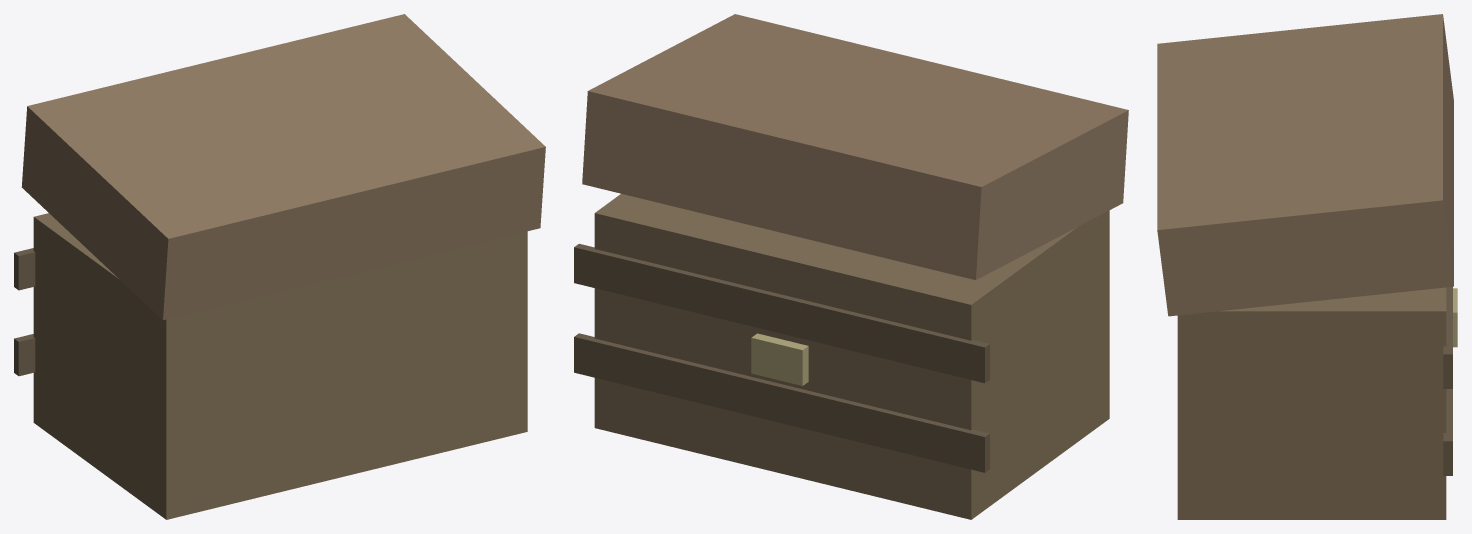
The model's file is treasure_chest_v1.glb.
The picture shows the model from 3 angles, left to right: view 1: azimuth 30°, elevation 25°; view 2: azimuth 150°, elevation 25°; view 3: azimuth 270°, elevation 25°; orthographic projection. The views are drawn at different scales.
Visible parts, largest first — view 1: world; view 2: world; view 3: world.
Part boxes in pixels (x1,y1,x2,y2): world: (14,14,545,519); world: (574,14,1128,519); world: (1157,14,1457,519).
Bounding box in the file's own units: 1 × 0.7761 × 0.6529.
